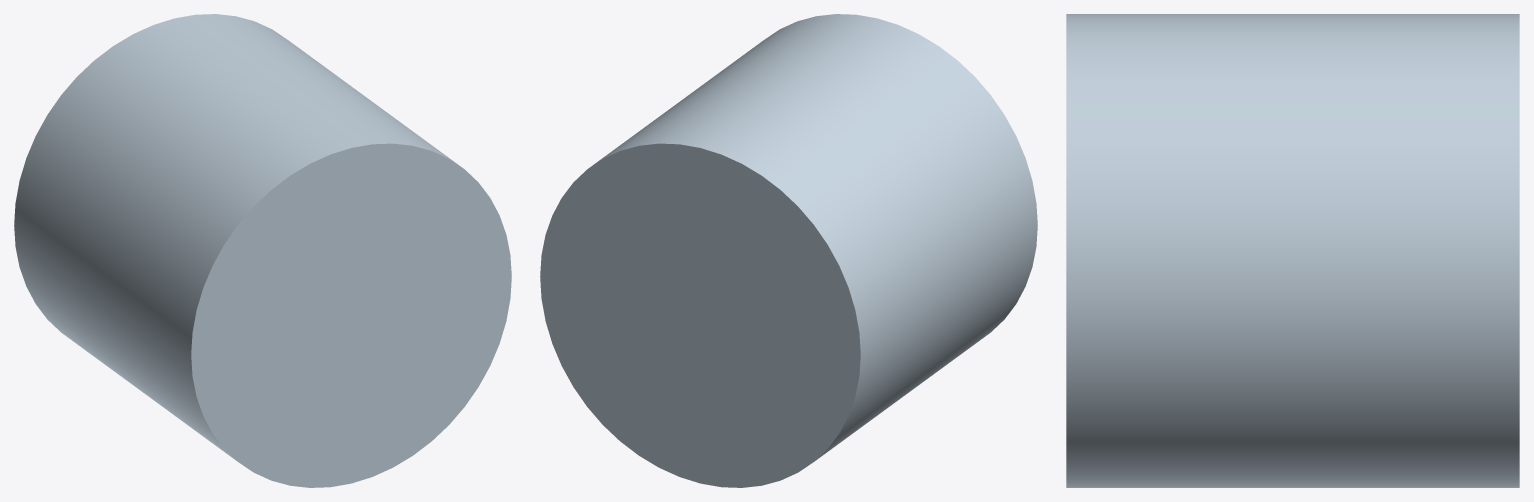
File: skin_effect_wire.glb
3 renders of one model, left to right at view 1: azimuth 30°, elevation 25°; view 2: azimuth 150°, elevation 25°; view 3: azimuth 270°, elevation 25°, orthographic. The views are drawn at different scales.
Parts seen in each view (by area): view 1: Skin_Insulation; view 2: Skin_Insulation; view 3: Skin_Insulation.
Part boxes in pixels (x1,y1,x2,y2): Skin_Insulation: (14, 14, 511, 487); Skin_Insulation: (540, 14, 1037, 487); Skin_Insulation: (1066, 14, 1519, 487).
Bounding box in the file's own units: 2.28 × 2.28 × 2.18.
